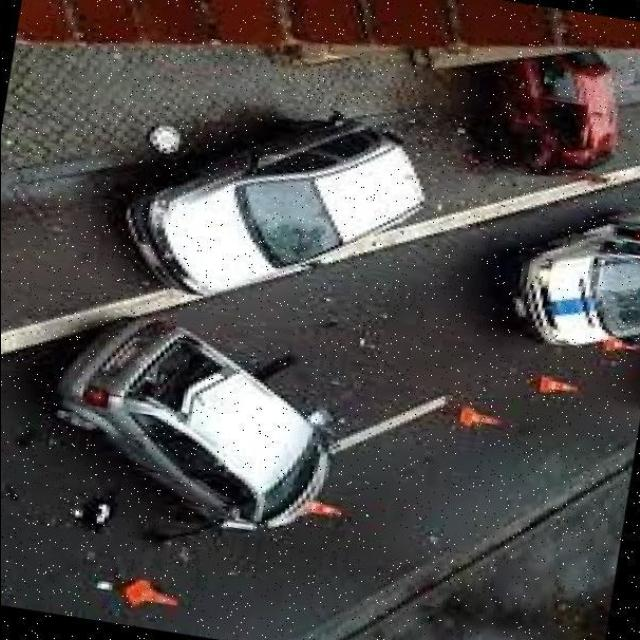accident: (25, 291, 391, 574), (475, 18, 640, 194)
